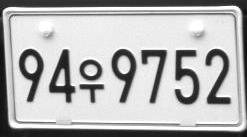2: (205, 48, 231, 104)
4: (48, 49, 76, 103)
5: (174, 49, 200, 104)
7: (140, 49, 167, 103)
9: (18, 47, 44, 102), (110, 48, 136, 103)
우: (78, 58, 104, 103)
